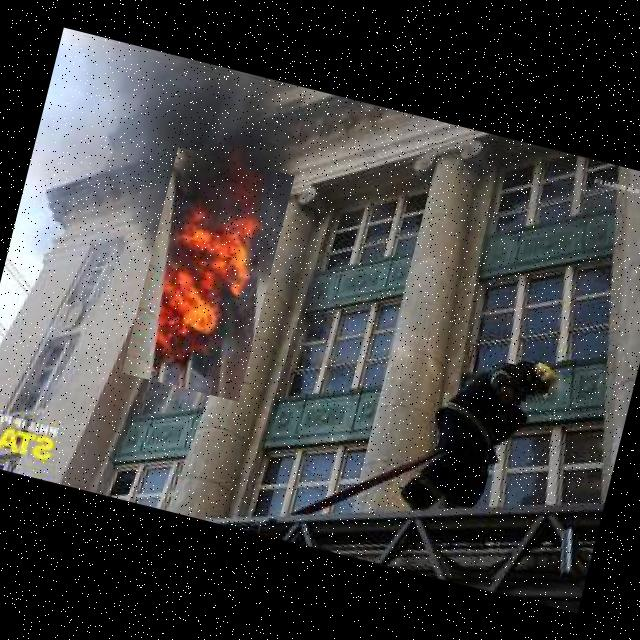fire: (122, 146, 294, 402)
